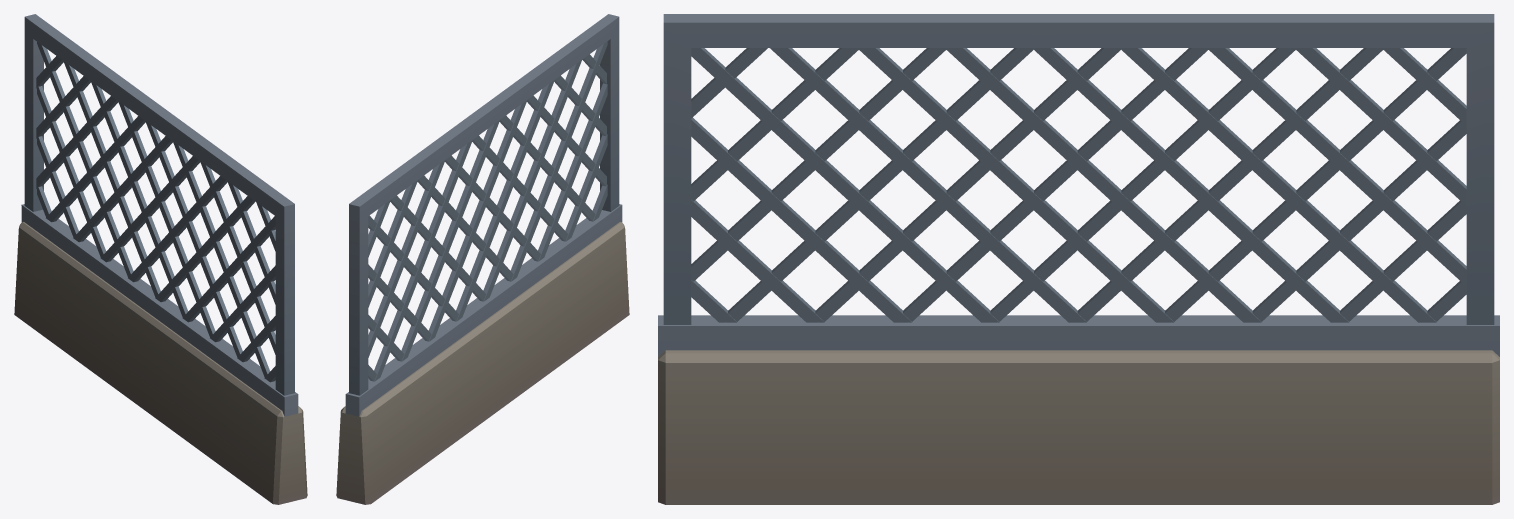
File: Fence_1_A_6.glb
The picture shows the model from 3 angles, left to right: view 1: azimuth 30°, elevation 25°; view 2: azimuth 150°, elevation 25°; view 3: azimuth 270°, elevation 25°; orthographic projection. The views are drawn at different scales.
Parts seen in each view (by area): view 1: Fence_1_A_6; view 2: Fence_1_A_6; view 3: Fence_1_A_6.
Part boxes in pixels (x1,y1,x2,y2): Fence_1_A_6: [14, 14, 307, 504]; Fence_1_A_6: [336, 14, 629, 504]; Fence_1_A_6: [658, 14, 1499, 504].
Bounding box in the file's own units: 0.3052 × 2.48 × 4.
1 material, 1 textured.
